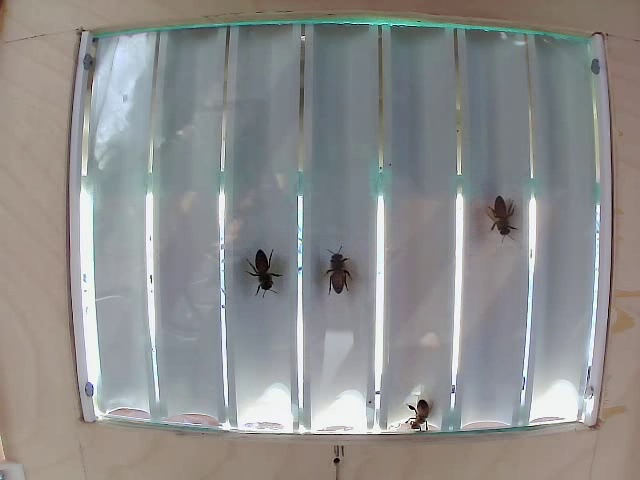bee: (241, 243, 302, 292), (475, 178, 517, 241), (322, 245, 352, 295)
